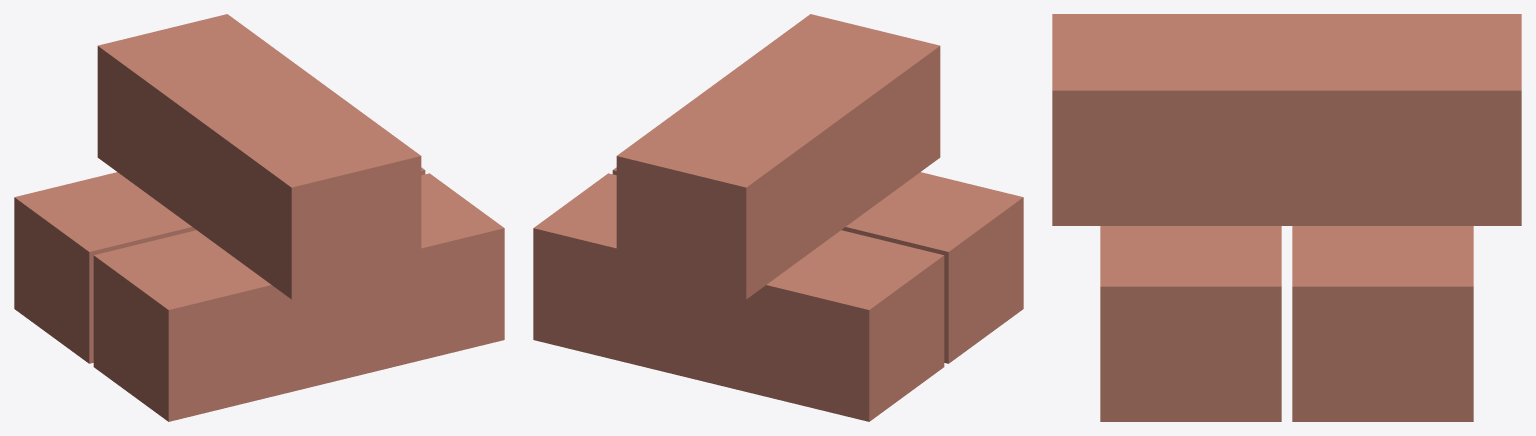
Rendered from tijolo.glb.
3 renders of one model, left to right at view 1: azimuth 30°, elevation 25°; view 2: azimuth 150°, elevation 25°; view 3: azimuth 270°, elevation 25°, orthographic. The views are drawn at different scales.
Parts seen in each view (by area): view 1: tijolo; view 2: tijolo; view 3: tijolo.
Part boxes in pixels (box(x1,y1,x2,y2)): tijolo: box(14, 14, 504, 421); tijolo: box(533, 14, 1023, 421); tijolo: box(1052, 14, 1521, 421).
Bounding box in the file's own units: 0.22 × 0.14 × 0.22.
